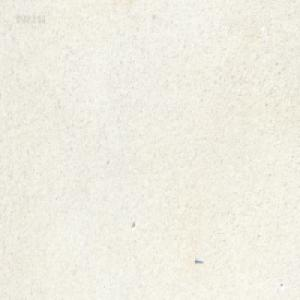Nail: (194, 257, 203, 264)
